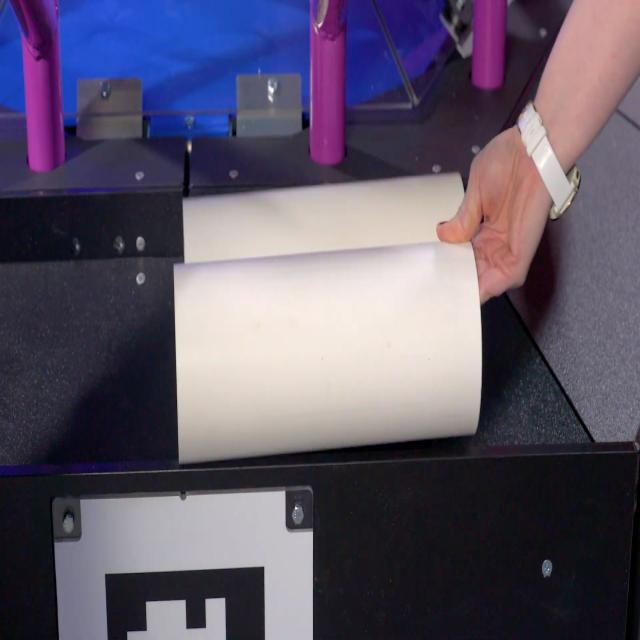Coral: (172, 238, 483, 464), (181, 170, 466, 263)
